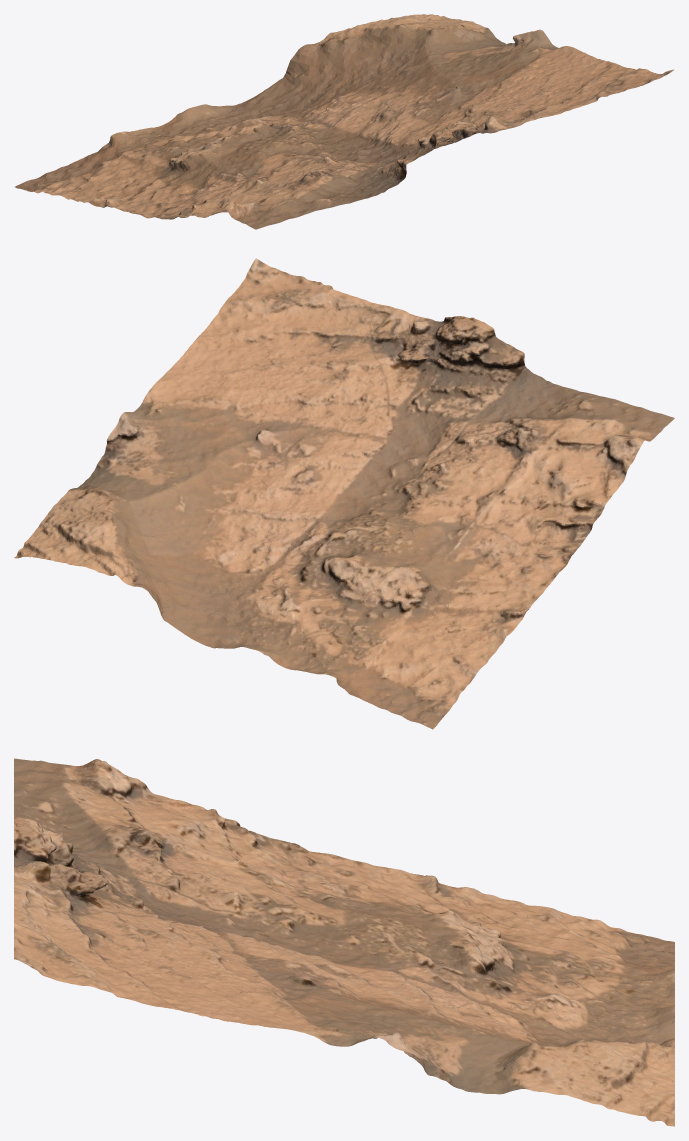
3 views of the same model, one above another, from view 1: azimuth 30°, elevation 25°; view 2: azimuth 150°, elevation 25°; view 3: azimuth 270°, elevation 25° (orthographic). The views are drawn at different scales.
Size of the model in its own units: 1.04 by 0.4571 by 1.04.
Materials: 3 (3 with a texture image).
